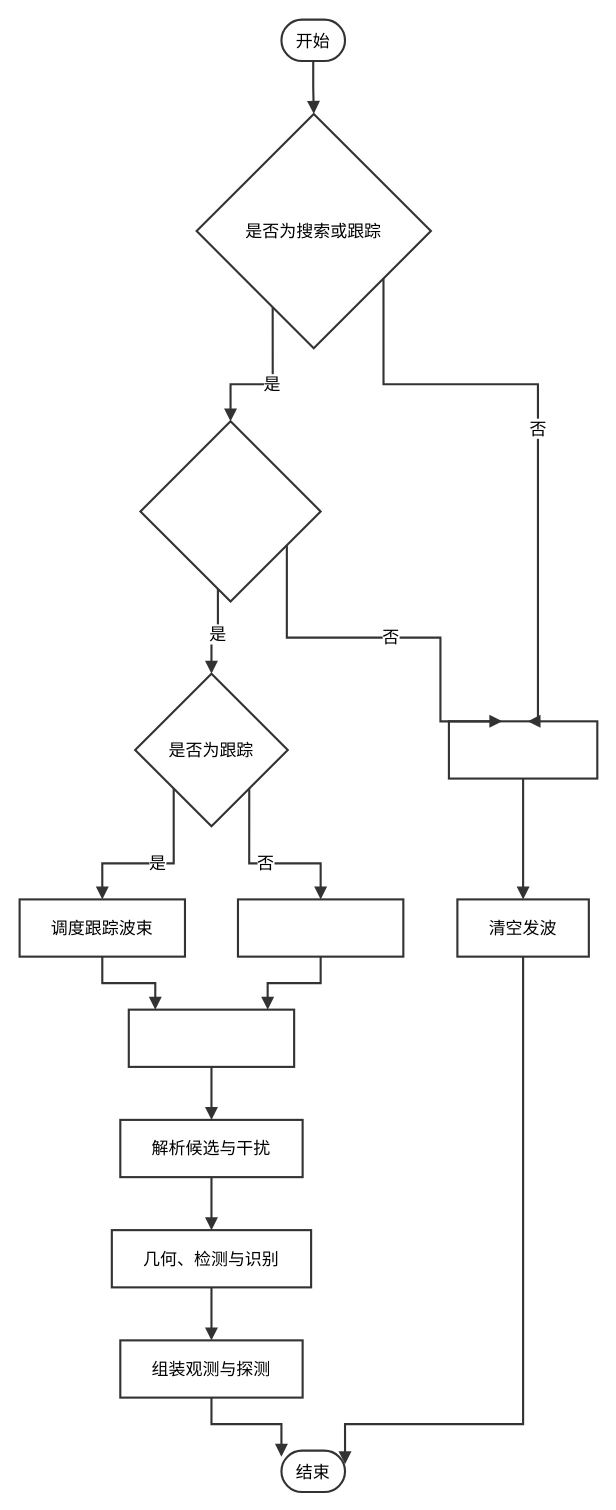
Image size: 616x1510. Some labels were removed from this diagram. Here are the shapes that lost their labels. From the top down, the box of each, then its label:
(139, 420, 321, 602): 宿主是否有效
(447, 720, 598, 779): 组装空结果
(236, 898, 404, 957): 推进搜索波束
(127, 1008, 295, 1067): 组装发波信息
